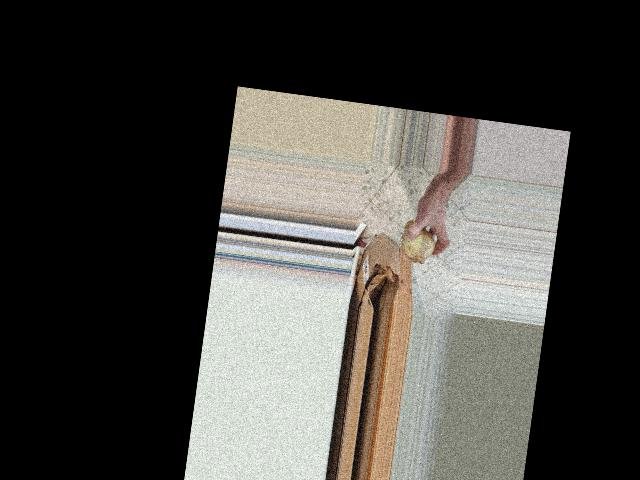onion: (396, 218, 440, 266)
